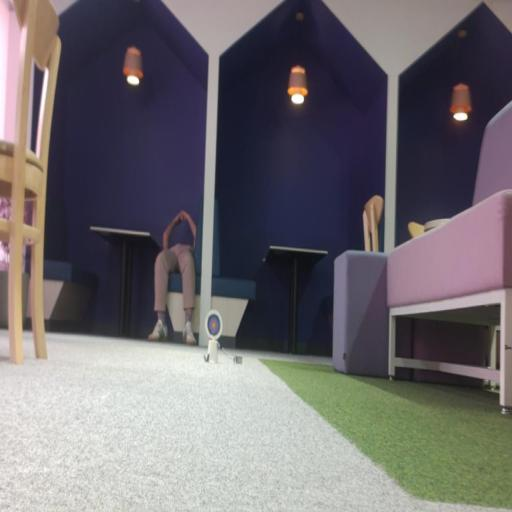target: (205, 309, 223, 339)
